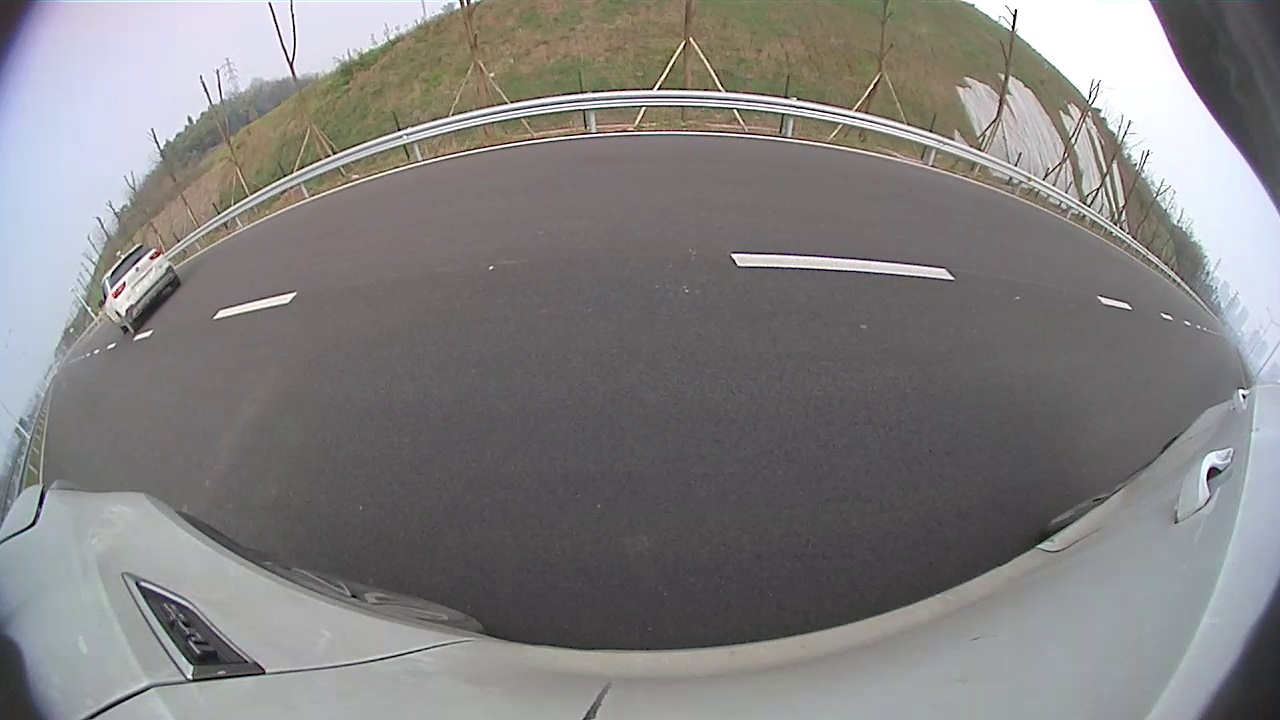car: (99, 243, 182, 334)
